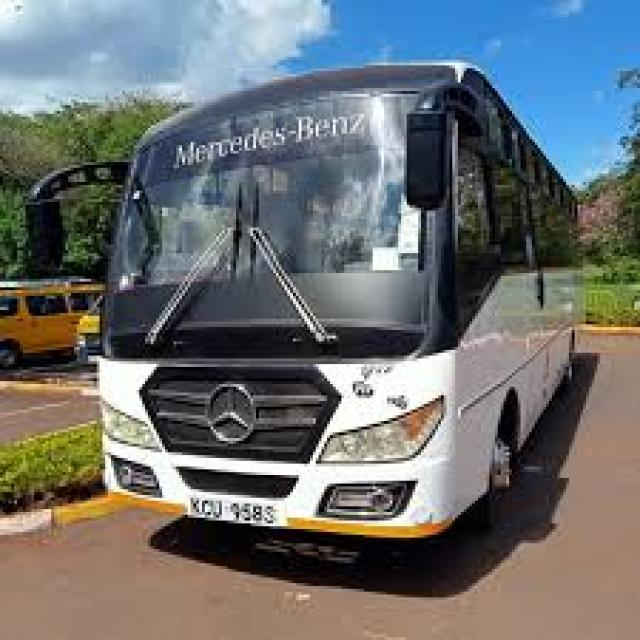bus: (5, 8, 631, 604)
